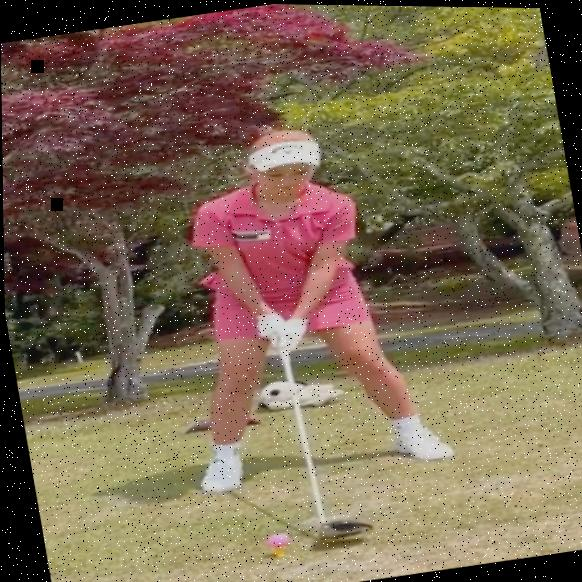ClubHead: (309, 515, 367, 549)
GolfBall: (257, 527, 291, 550)
